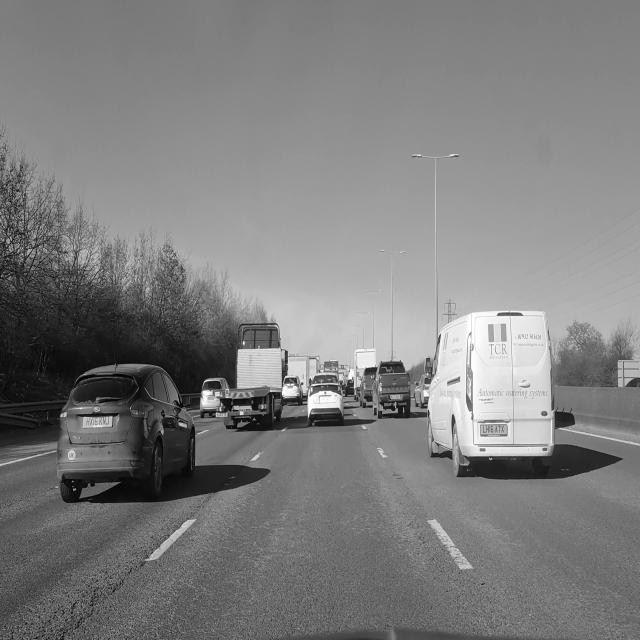car: (428, 311, 554, 476), (57, 364, 195, 502), (373, 357, 414, 423), (308, 374, 343, 426), (200, 378, 229, 418), (283, 376, 303, 405), (414, 375, 430, 408)
